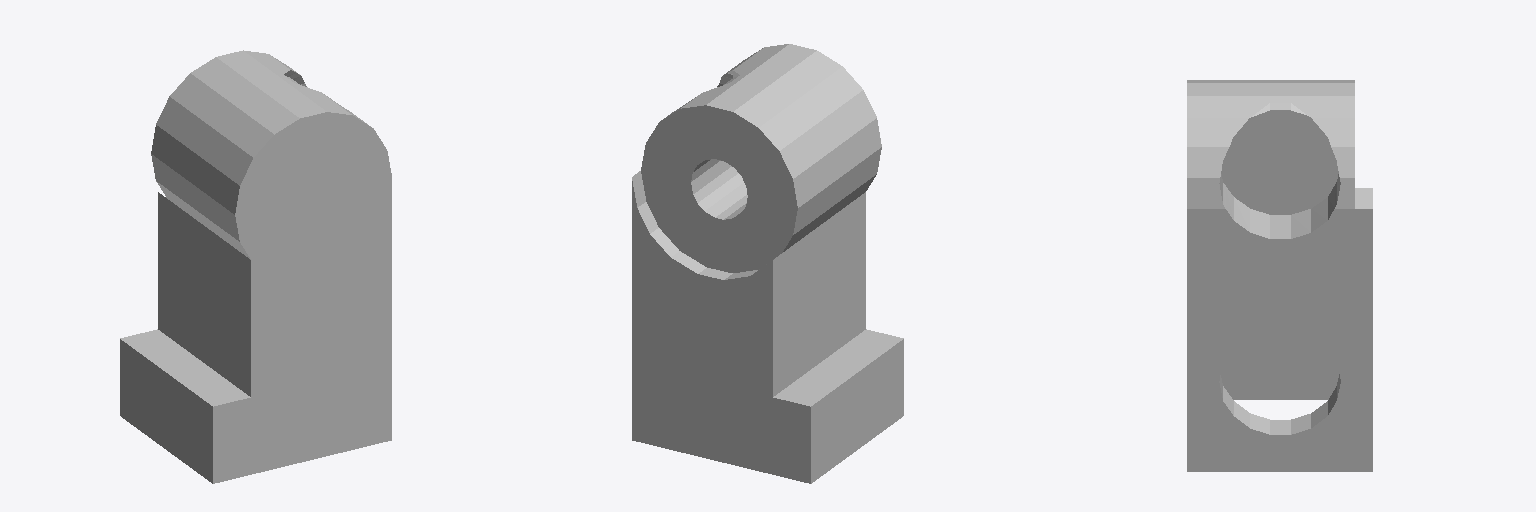
Rendered from LeoDart_left_leg.obj.
3 renders of one model, left to right at view 1: azimuth 30°, elevation 25°; view 2: azimuth 150°, elevation 25°; view 3: azimuth 270°, elevation 25°, orthographic.
Parts seen in each view (by area): view 1: Leg2; view 2: Leg2; view 3: Leg2.
Boxes of the visible parts, x1=… form: Leg2: x1=120, y1=50, x2=391, y2=483; Leg2: x1=632, y1=44, x2=903, y2=483; Leg2: x1=1187, y1=80, x2=1372, y2=471.
Bounding box in the file's own units: 0.8 × 1.47 × 0.72.